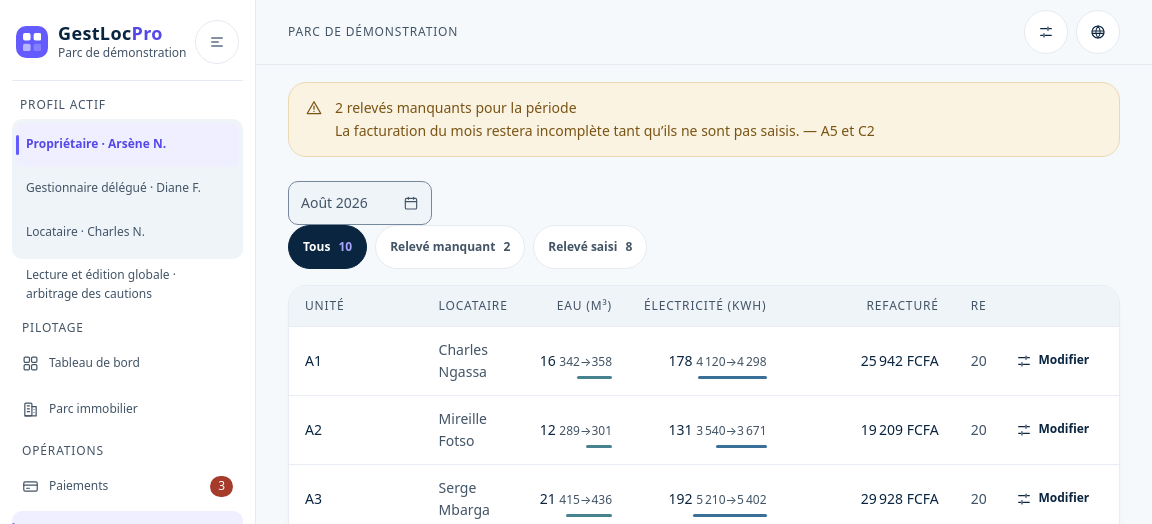
Scenario: corriger un relevé › ouvre la modale PRÉREMPLIE, et fige le logement
(page scrolled)
What coordinates should you click on to do the following:
click the button with aria-label "Modifier les relevés — "
I would click on:
 (1053, 361)
Its box is [1002,339,1103,383].
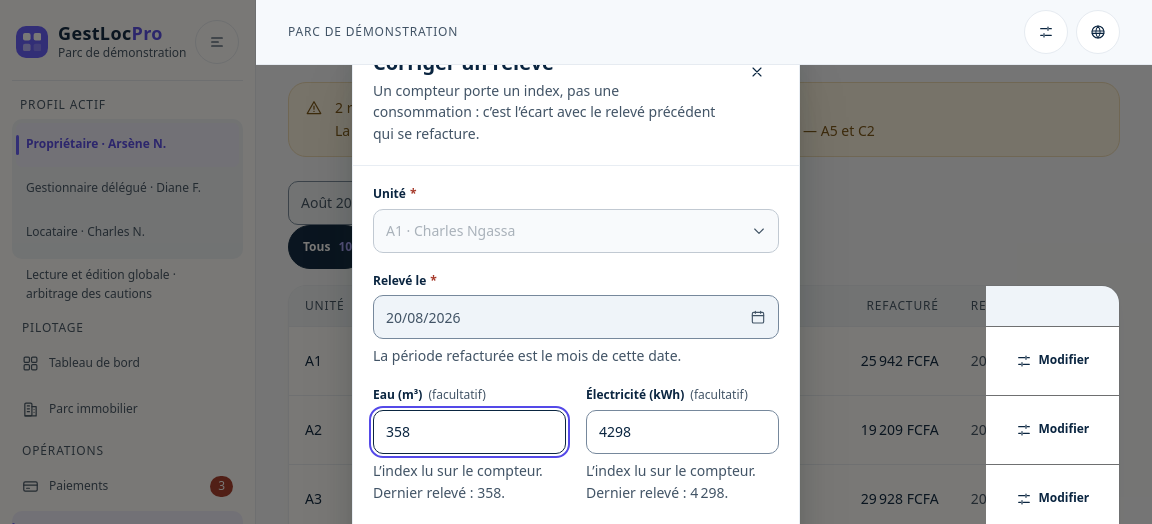
Expected: the dropdown labelled "Unité*" is disabled, [373,209,779,253]
Expected: the field showing "358" is shown, [373,410,566,454]
